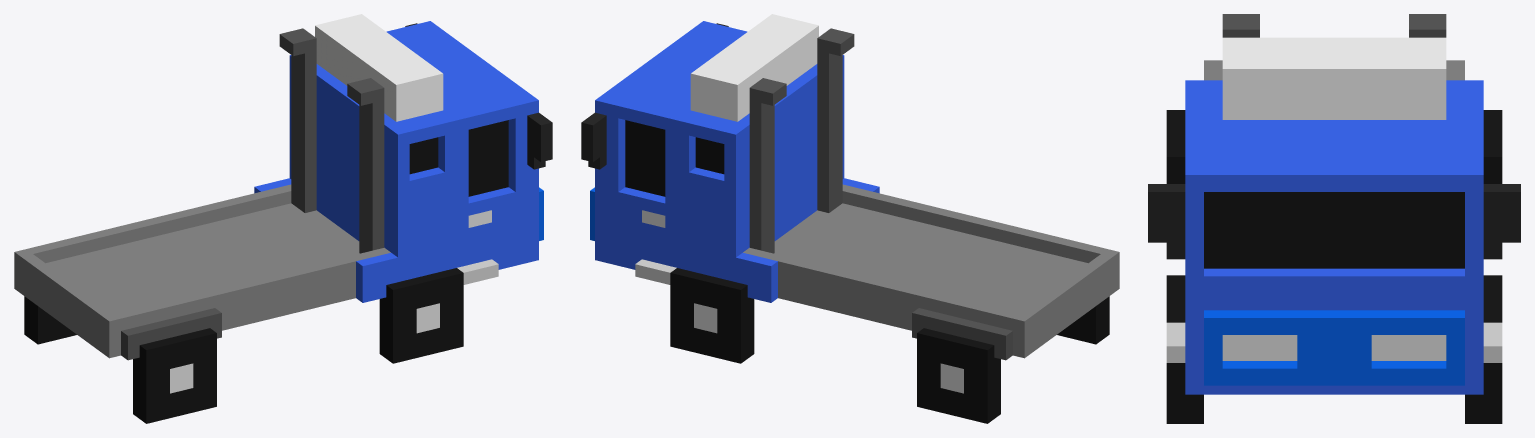
The model's file is caminhaoSemBau.obj.
3 renders of one model, left to right at view 1: azimuth 30°, elevation 25°; view 2: azimuth 150°, elevation 25°; view 3: azimuth 270°, elevation 25°, orthographic. The views are drawn at different scales.
Size of the model in its own units: 37 by 21 by 20.
Materials: 1 (1 with a texture image).
